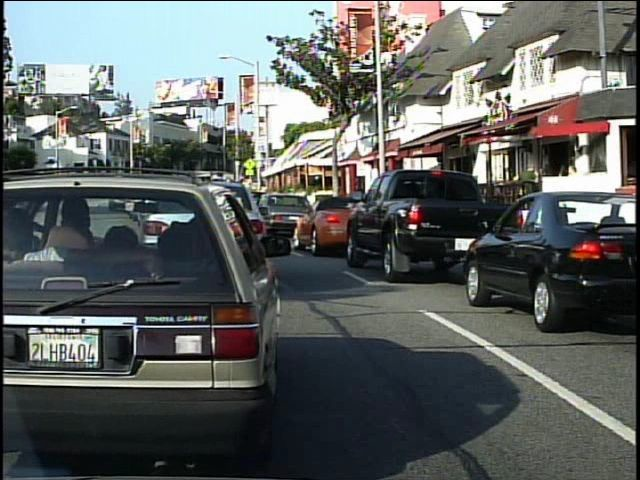person: (516, 158, 543, 226)
